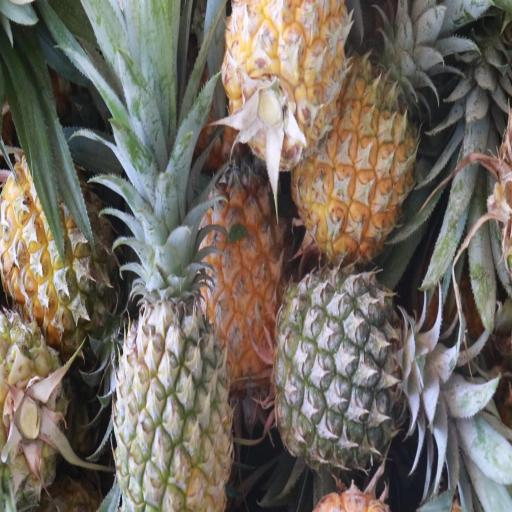------------------------------: (1, 153, 116, 340)
Pineapple - v8 v1: (294, 66, 416, 263), (223, 0, 350, 168), (198, 160, 287, 387)
